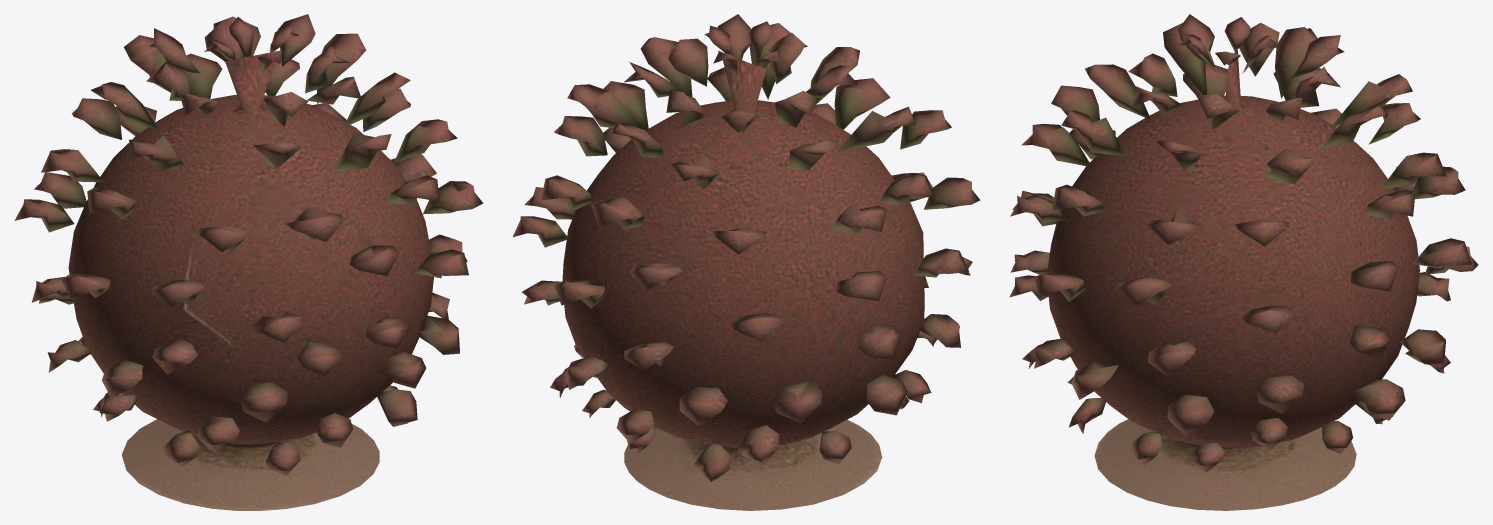
File: e_bush.glb
3 views of the same model, side by side, from view 1: azimuth 30°, elevation 25°; view 2: azimuth 150°, elevation 25°; view 3: azimuth 270°, elevation 25° (orthographic).
Visible parts, largest first — view 1: tripo_node_0a41fd03-fdd2-4105-ae4d-a05e812422f1; view 2: tripo_node_0a41fd03-fdd2-4105-ae4d-a05e812422f1; view 3: tripo_node_0a41fd03-fdd2-4105-ae4d-a05e812422f1.
Boxes of the visible parts, bbox=[...] form: tripo_node_0a41fd03-fdd2-4105-ae4d-a05e812422f1: bbox=[14, 14, 483, 510]; tripo_node_0a41fd03-fdd2-4105-ae4d-a05e812422f1: bbox=[513, 14, 980, 510]; tripo_node_0a41fd03-fdd2-4105-ae4d-a05e812422f1: bbox=[1009, 14, 1478, 510].
Size of the model in its own units: 0.9995 by 0.9995 by 0.9995.
Materials: 1 (1 with a texture image).
